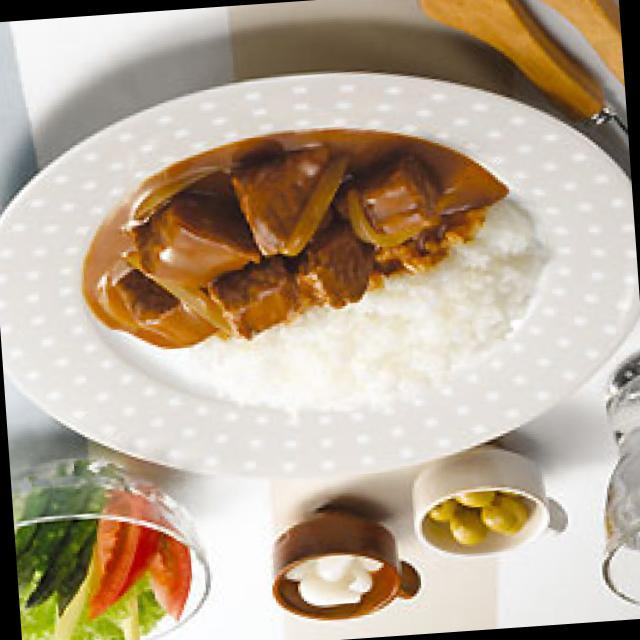Beef Curry: (77, 113, 499, 334)
